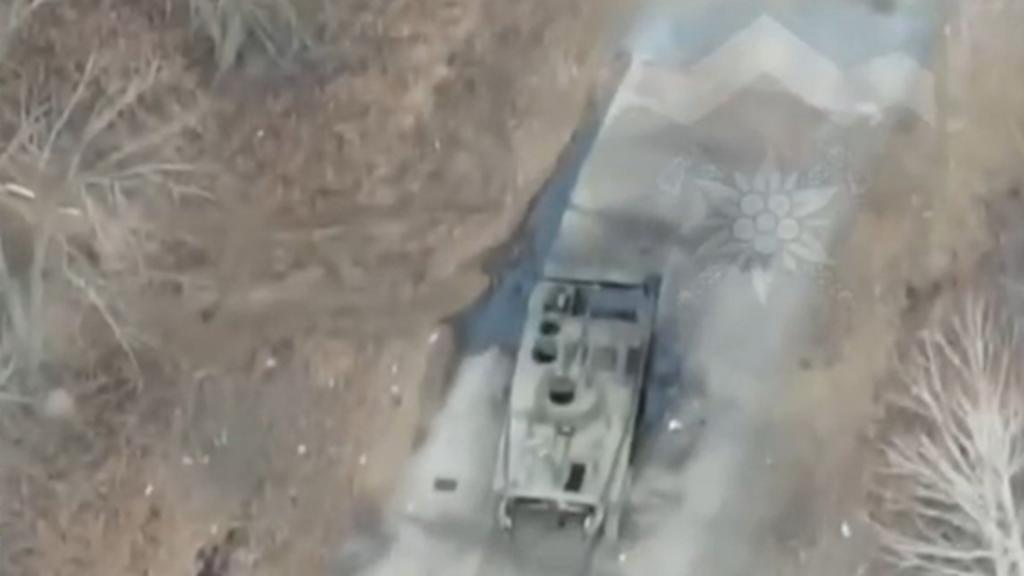APC-IFV: (488, 254, 656, 534)
